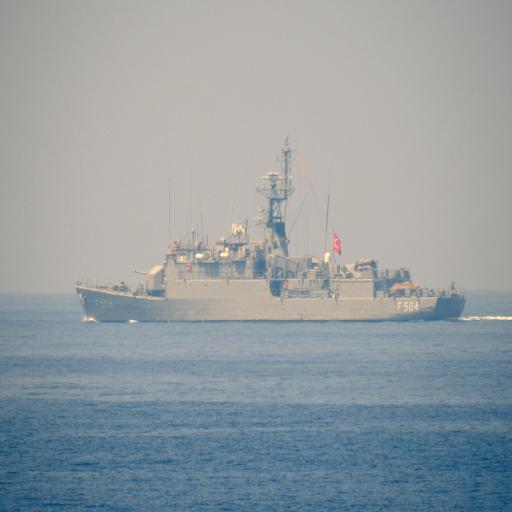Fragata: (73, 129, 469, 329)
